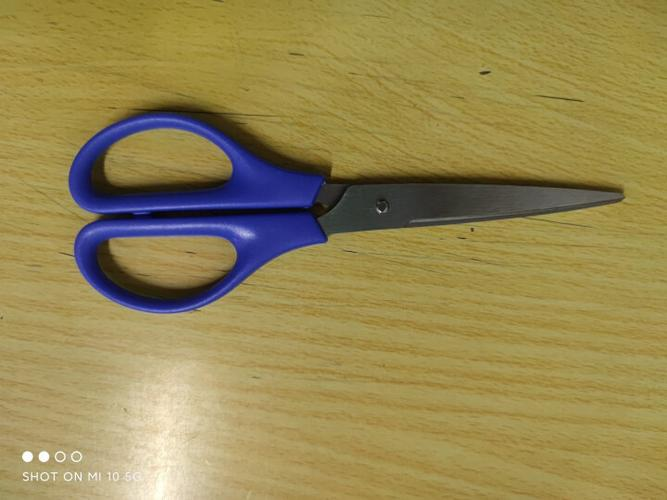scissor: (66, 110, 626, 314)
